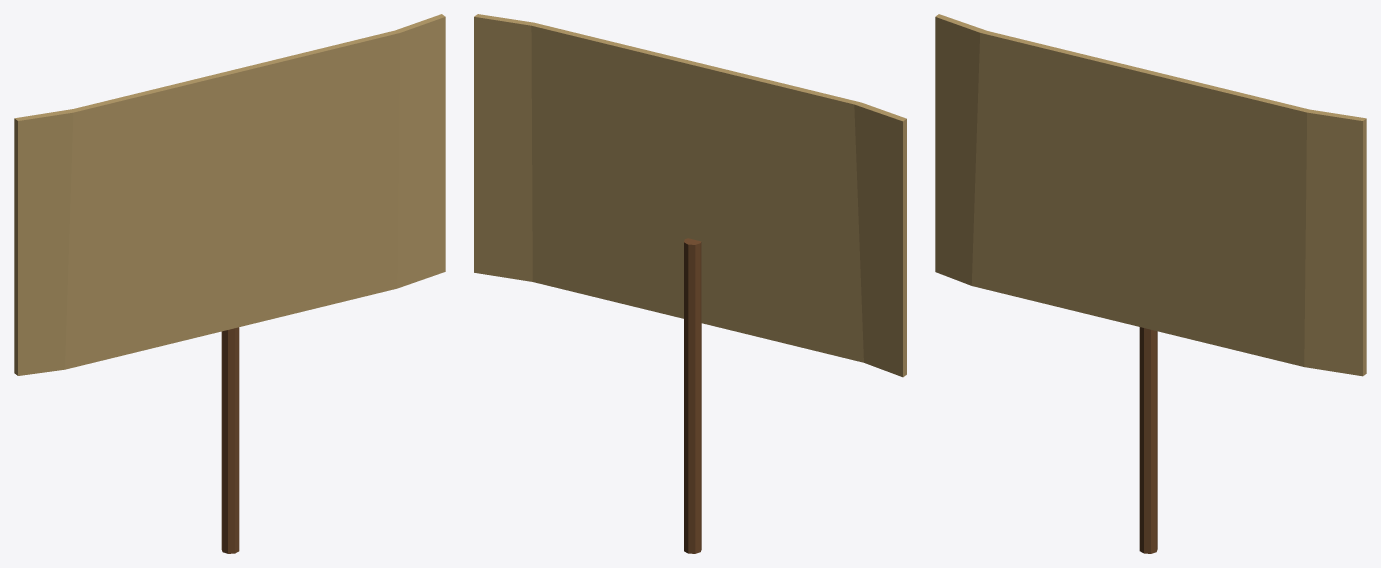
File: Sign.fbx
The picture shows the model from 3 angles, left to right: view 1: azimuth 30°, elevation 25°; view 2: azimuth 150°, elevation 25°; view 3: azimuth 330°, elevation 25°; orthographic projection.
Parts seen in each view (by area): view 1: Cylinder.001; view 2: Cylinder.001; view 3: Cylinder.001.
Part boxes in pixels (x1,y1,x2,y2): Cylinder.001: (14,14,445,553); Cylinder.001: (474,14,906,553); Cylinder.001: (935,14,1366,553).
Size of the model in its own units: 351 by 378 by 14.63.
